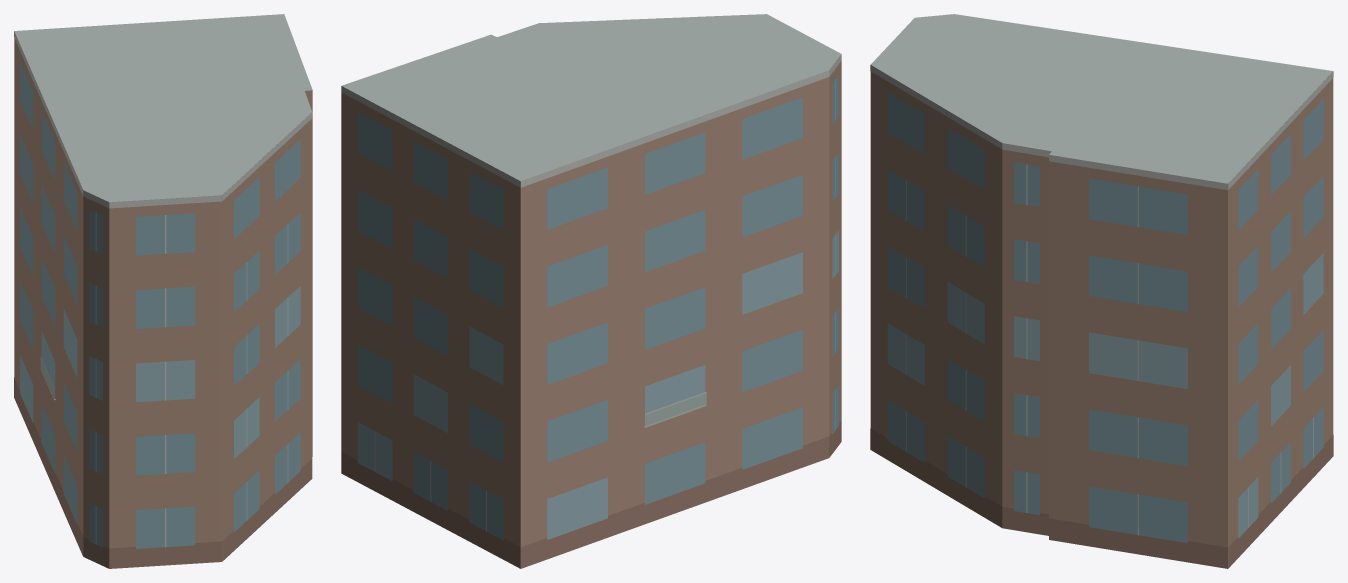
File: survey-upis-32671515.glb
The picture shows the model from 3 angles, left to right: view 1: azimuth 30°, elevation 25°; view 2: azimuth 150°, elevation 25°; view 3: azimuth 270°, elevation 25°; orthographic projection. The views are drawn at different scales.
Visible parts, largest first — view 1: survey-upis-32671515.tmp; view 2: survey-upis-32671515.tmp; view 3: survey-upis-32671515.tmp.
Part boxes in pixels (x1,y1,x2,y2): survey-upis-32671515.tmp: (14,14,312,568); survey-upis-32671515.tmp: (341,14,841,568); survey-upis-32671515.tmp: (870,14,1333,568).
Bounding box in the file's own units: 13.72 × 14.5 × 15.81.
